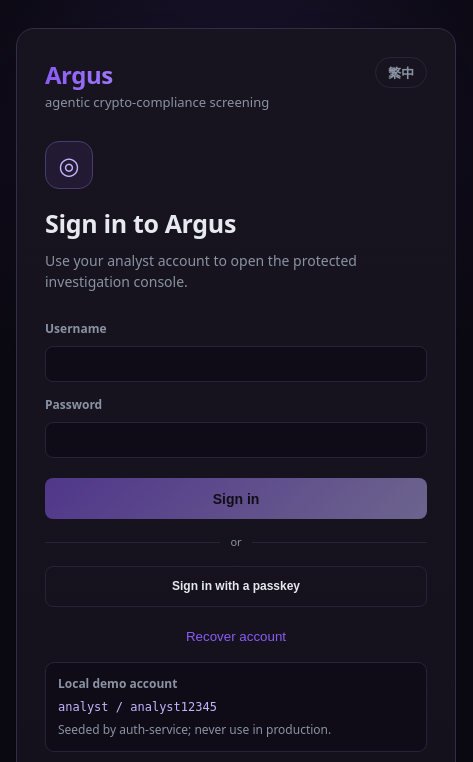
protected analyst console › shows a normalized login failure and leaves the protected page guarded
The width and height of the screenshot is (473, 762).
Step 1. Type "analyst" into the field labelled "Username" → (236, 364), box [45, 346, 427, 382]
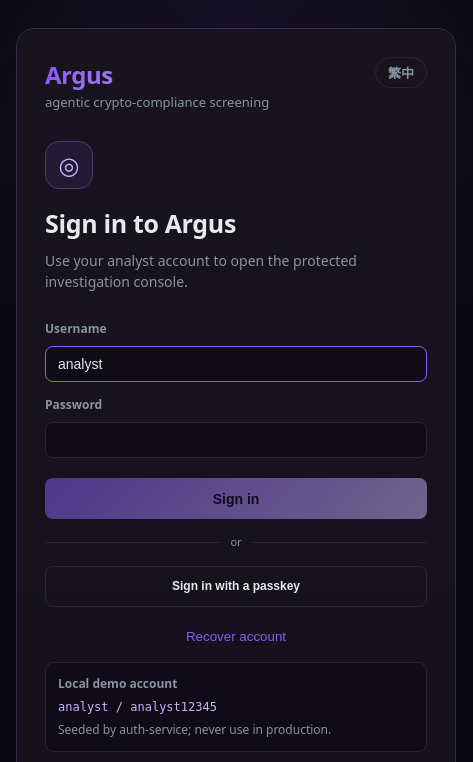
Step 2. Type "wrong-password" into the password field labelled "Password" → (236, 440), box [45, 422, 427, 458]
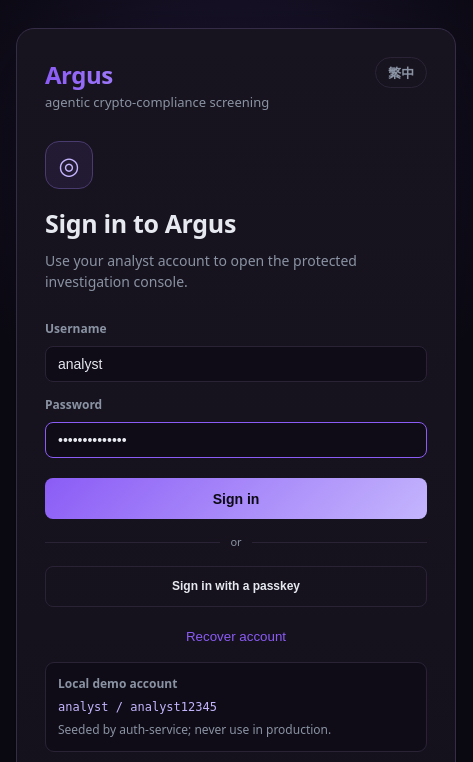
Step 3. Click the button "Sign in" → (236, 498), box [45, 478, 427, 519]
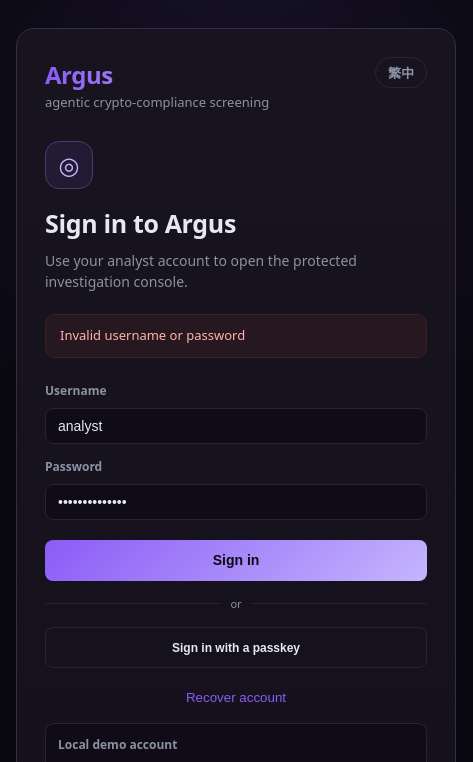
Expected: the message reads "Invalid username or password", [60, 326, 245, 344]
